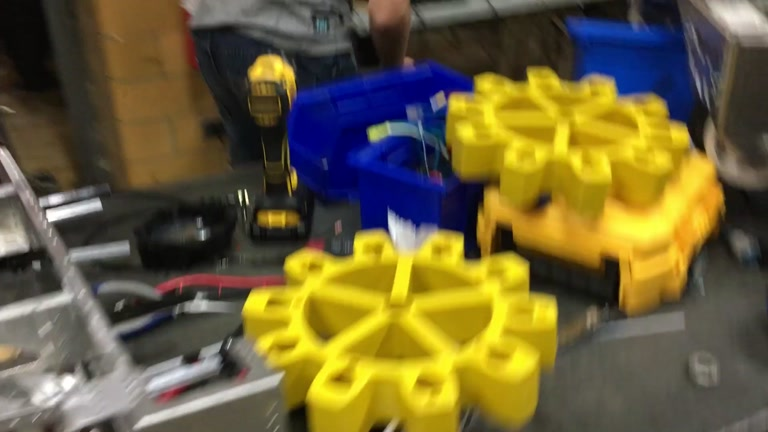gear: (240, 229, 559, 431), (442, 64, 691, 222)
